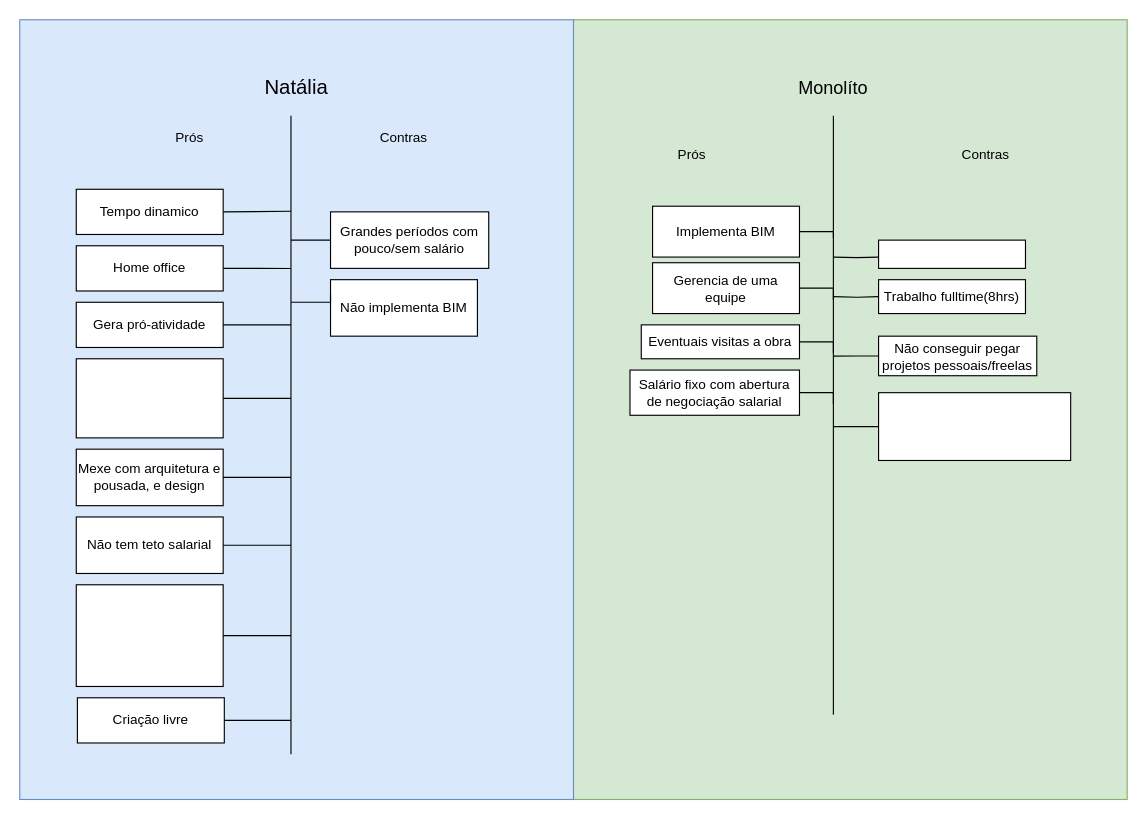
Some shapes in this 1147 by 819 pixel diagram are drawn without their labels. The shapes that lost their labels are listed below. From the top down, each one's centre as x and y in pixels, then its label:
(951,253): 3x presencial
(149,398): Visibilidade na profissão e networking (contato direto com o cliente)
(974,426): Gastos adicionais de gasolina e estacionamento (~ 300,00)
(149,635): Perspectiva de crescimento maior dado ao maior envolvimento nos projetos
